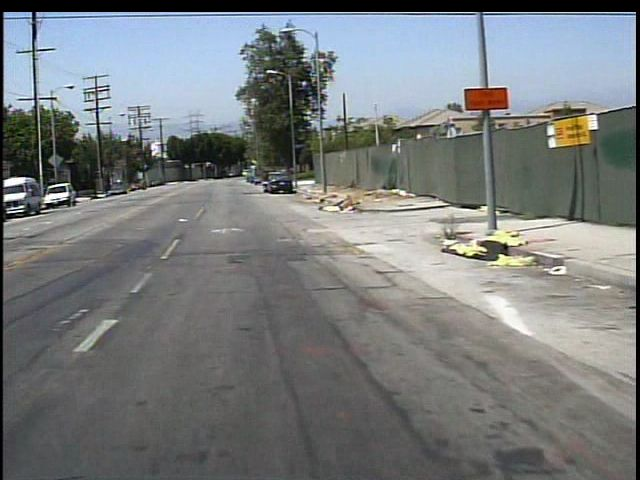car: (4, 177, 37, 218), (41, 181, 76, 210), (270, 174, 291, 192)
strada: (8, 185, 638, 479)
